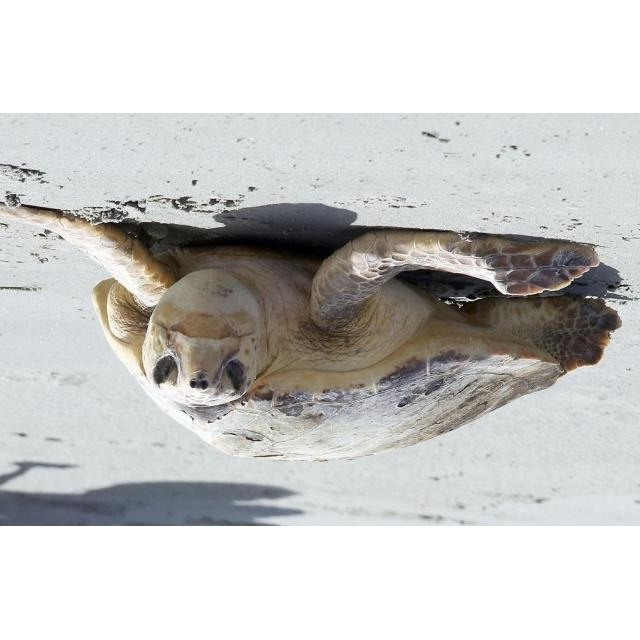turtle: (1, 205, 626, 463)
